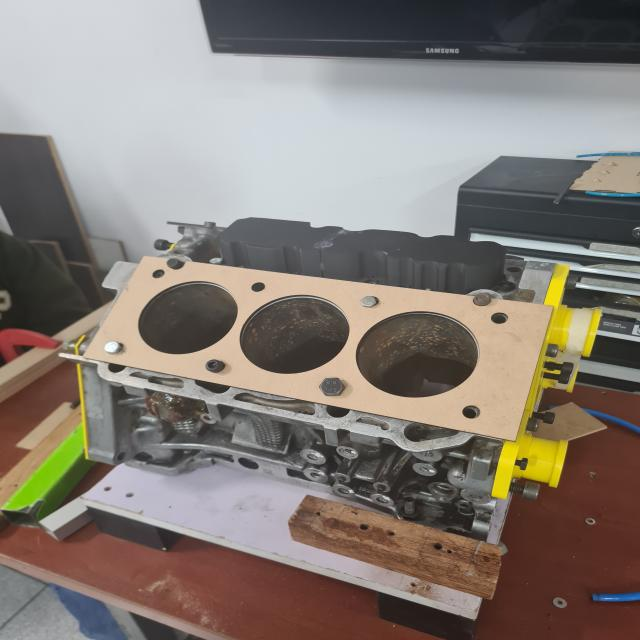vista1: (81, 255, 557, 441)
